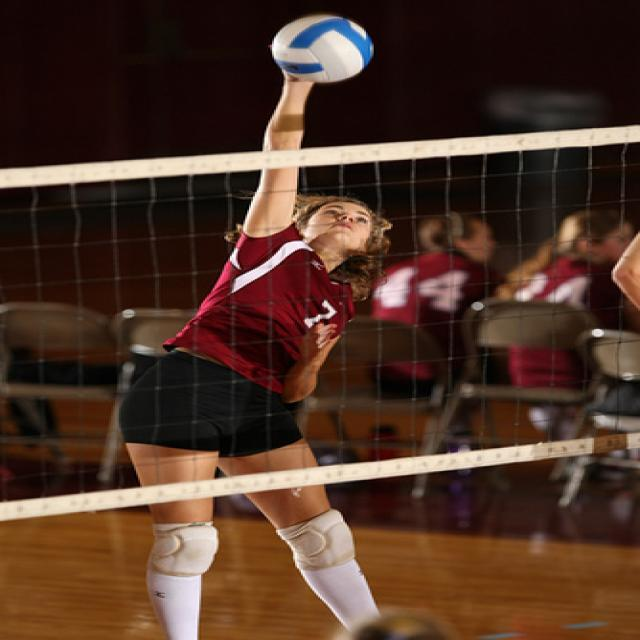volleyball: (272, 13, 375, 83)
